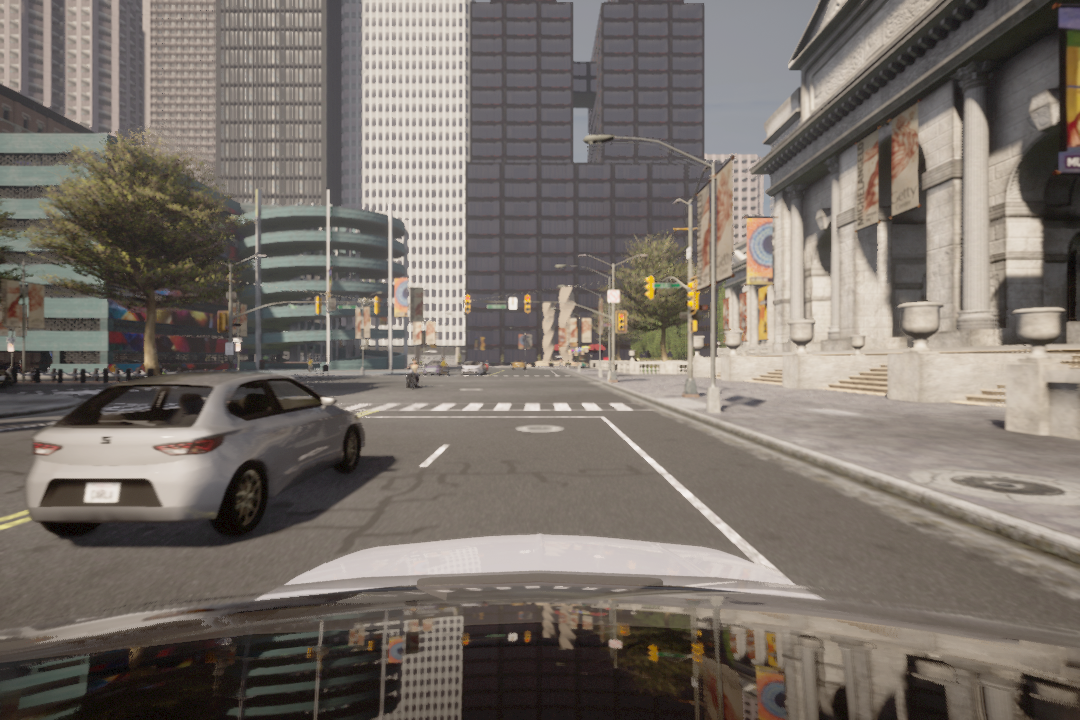TrafficLight: (686, 278, 699, 310), (614, 310, 627, 334), (644, 274, 654, 301), (523, 292, 532, 313), (464, 294, 472, 315)
walkside: (341, 401, 647, 415)
